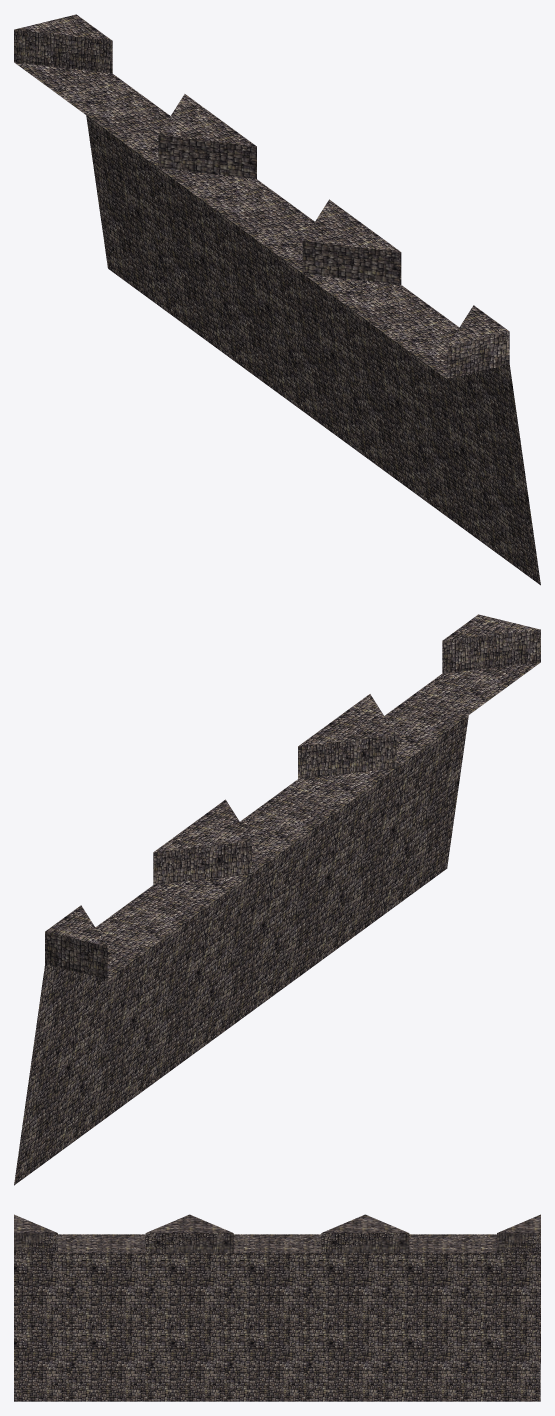
Rendered from pir_m_bld_frt_outerWall_300.fbx.
The picture shows the model from 3 angles, top to bottom: view 1: azimuth 30°, elevation 25°; view 2: azimuth 150°, elevation 25°; view 3: azimuth 270°, elevation 25°; orthographic projection. The views are drawn at different scales.
Visible parts, largest first — view 1: wall_01, parapet_01; view 2: wall_01, parapet_01; view 3: wall_01, parapet_01.
Boxes of the visible parts, x1,y1,x2,y2 form: wall_01: (14, 62, 540, 585); parapet_01: (14, 14, 509, 379); wall_01: (14, 662, 540, 1185); parapet_01: (45, 614, 540, 979); wall_01: (14, 1234, 540, 1401); parapet_01: (14, 1214, 540, 1252).
Size of the model in its own units: 3750 by 10000 by 30000.
1 material, 1 textured.
